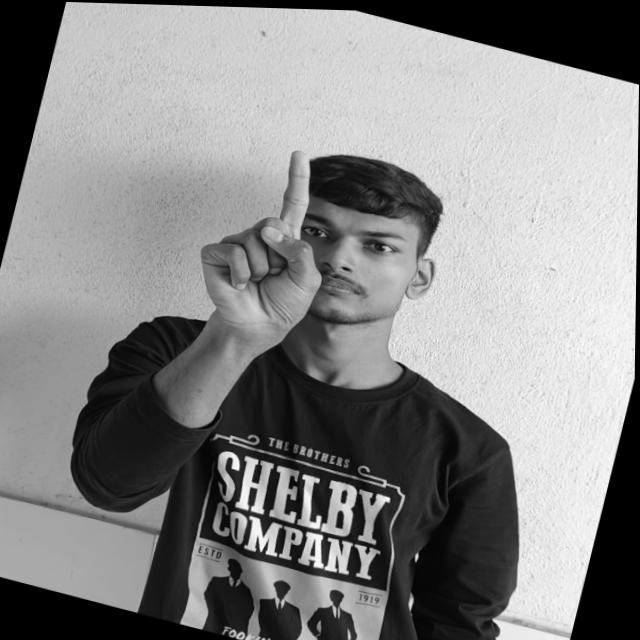Question: (192, 133, 356, 352)
